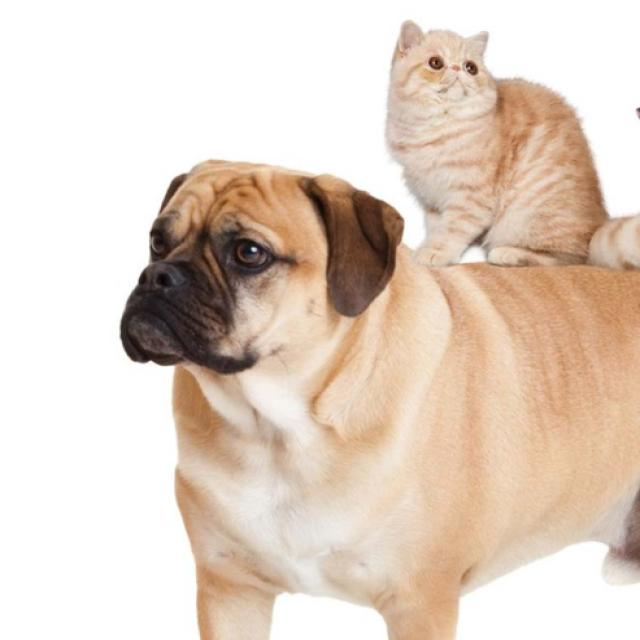cats: (389, 12, 611, 257)
dogs: (123, 138, 456, 634)
